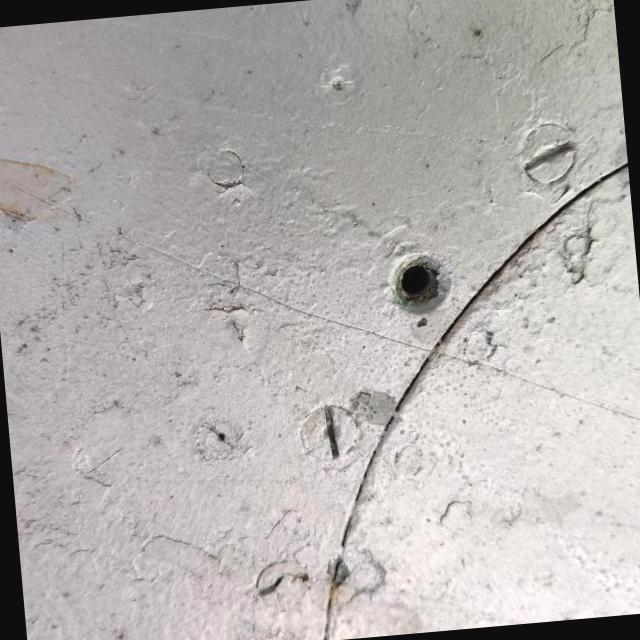Missing Fastener: (383, 249, 452, 314)
